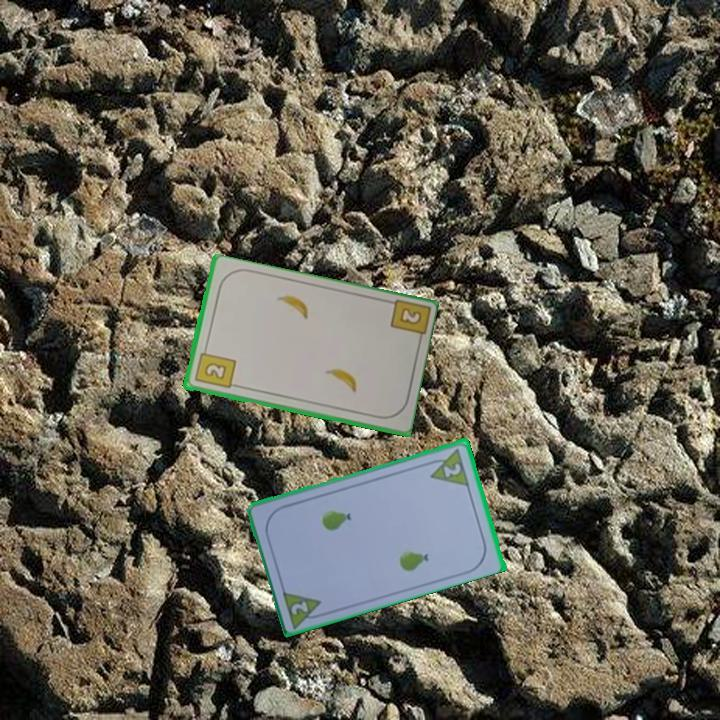2b: (191, 344, 238, 391), (396, 304, 425, 328)
2p: (287, 597, 312, 618), (440, 459, 464, 480)
